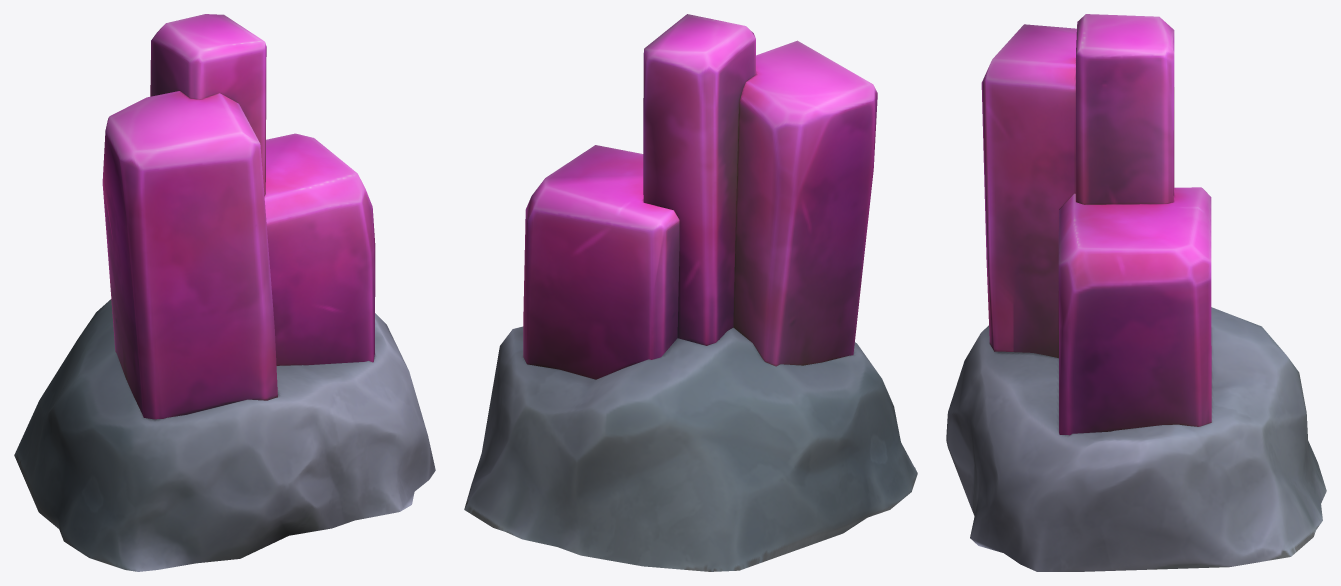
The model's file is SM_Gem_Kunzite_002.fbx.
The picture shows the model from 3 angles, left to right: view 1: azimuth 30°, elevation 25°; view 2: azimuth 150°, elevation 25°; view 3: azimuth 270°, elevation 25°; orthographic projection.
Visible parts, largest first — view 1: SM_Gem_Kunzite_002; view 2: SM_Gem_Kunzite_002; view 3: SM_Gem_Kunzite_002.
Part boxes in pixels (x1=…): SM_Gem_Kunzite_002: x1=14, y1=14, x2=435, y2=571; SM_Gem_Kunzite_002: x1=464, y1=14, x2=917, y2=571; SM_Gem_Kunzite_002: x1=946, y1=14, x2=1326, y2=571.
Size of the model in its own units: 52.34 by 64.19 by 48.66.
